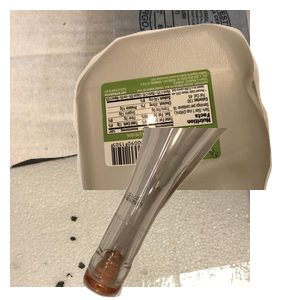cardboard: (10, 10, 250, 190)
glass: (80, 128, 300, 300)
plastic: (71, 21, 300, 201)
trash: (10, 120, 250, 300)
